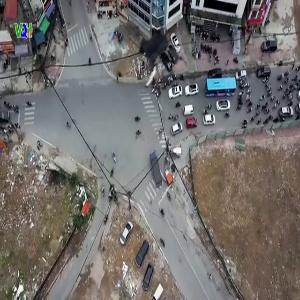drone: (107, 13, 194, 100)
